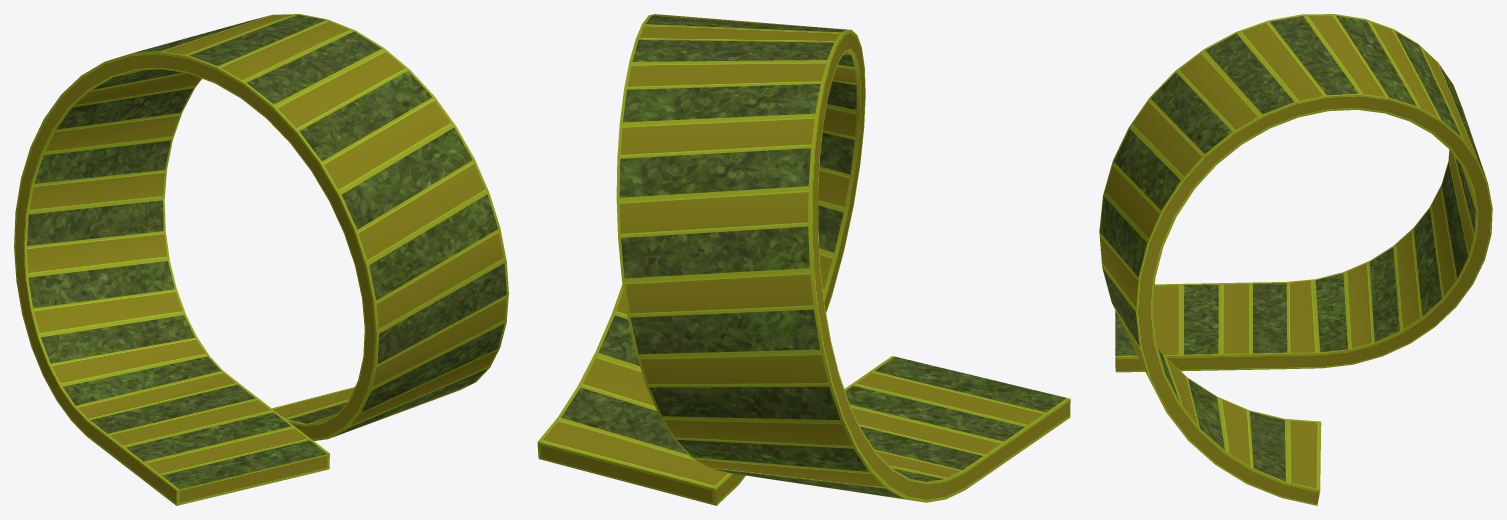
The model's file is mountain_loop.gltf.
3 renders of one model, left to right at view 1: azimuth 30°, elevation 25°; view 2: azimuth 150°, elevation 25°; view 3: azimuth 270°, elevation 25°, orthographic. The views are drawn at different scales.
Visible parts, largest first — view 1: mountain_loop_glb; view 2: mountain_loop_glb; view 3: mountain_loop_glb.
Boxes of the visible parts, x1=… form: mountain_loop_glb: x1=14, y1=14, x2=508, y2=505; mountain_loop_glb: x1=537, y1=14, x2=1070, y2=505; mountain_loop_glb: x1=1099, y1=14, x2=1492, y2=505.
Size of what is drawn, in the model's own units: 4.87 by 5.27 by 4.93.
2 materials, 2 textured.
